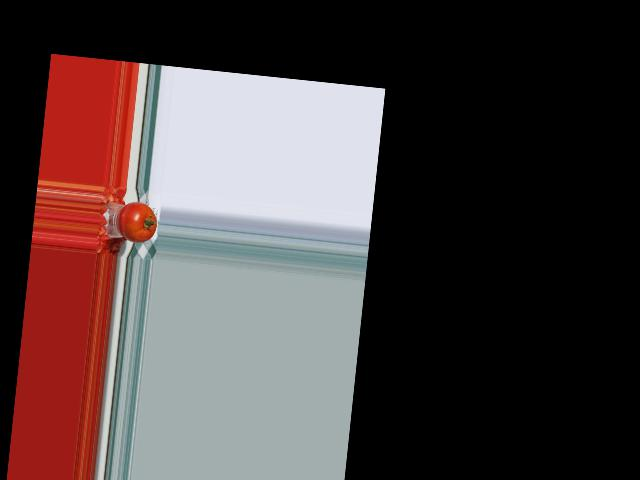tomato: (116, 199, 159, 244)
